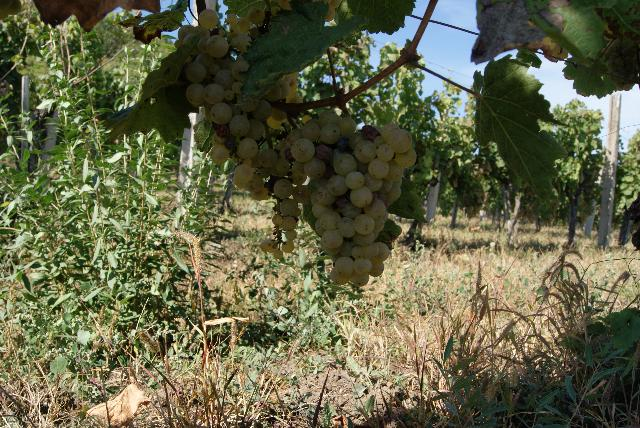grapes: (290, 110, 416, 286), (234, 149, 311, 259), (185, 34, 251, 160)
